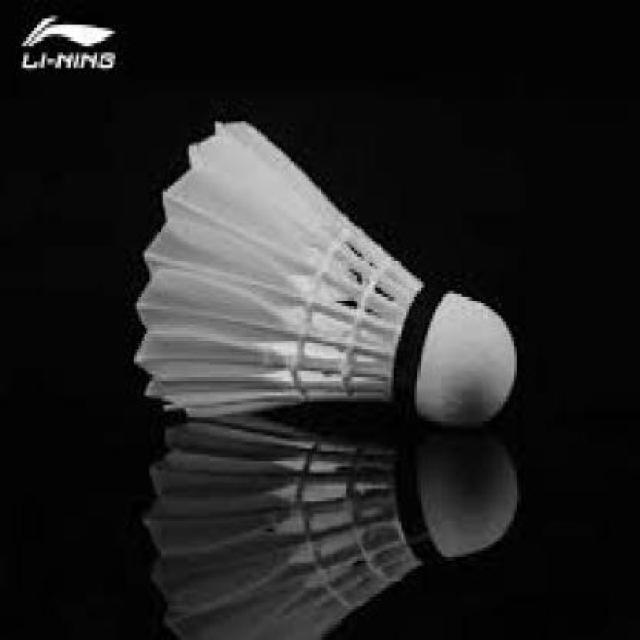Shuttlecock: (130, 117, 522, 431)
